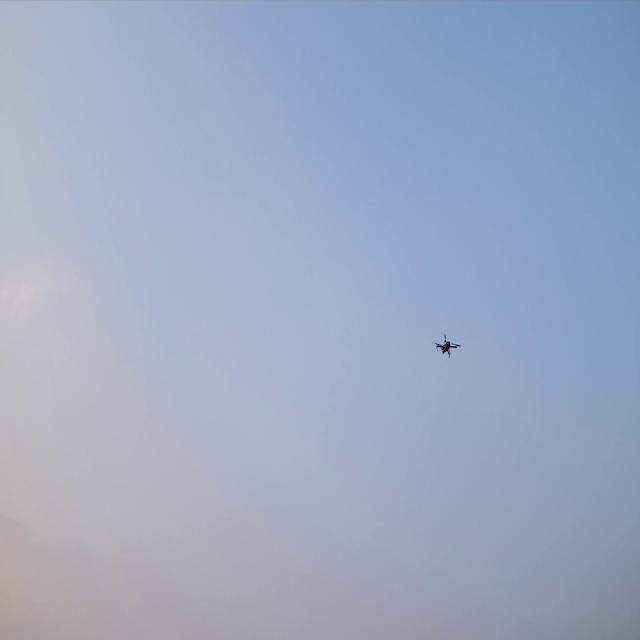UAV: (430, 330, 462, 360)
